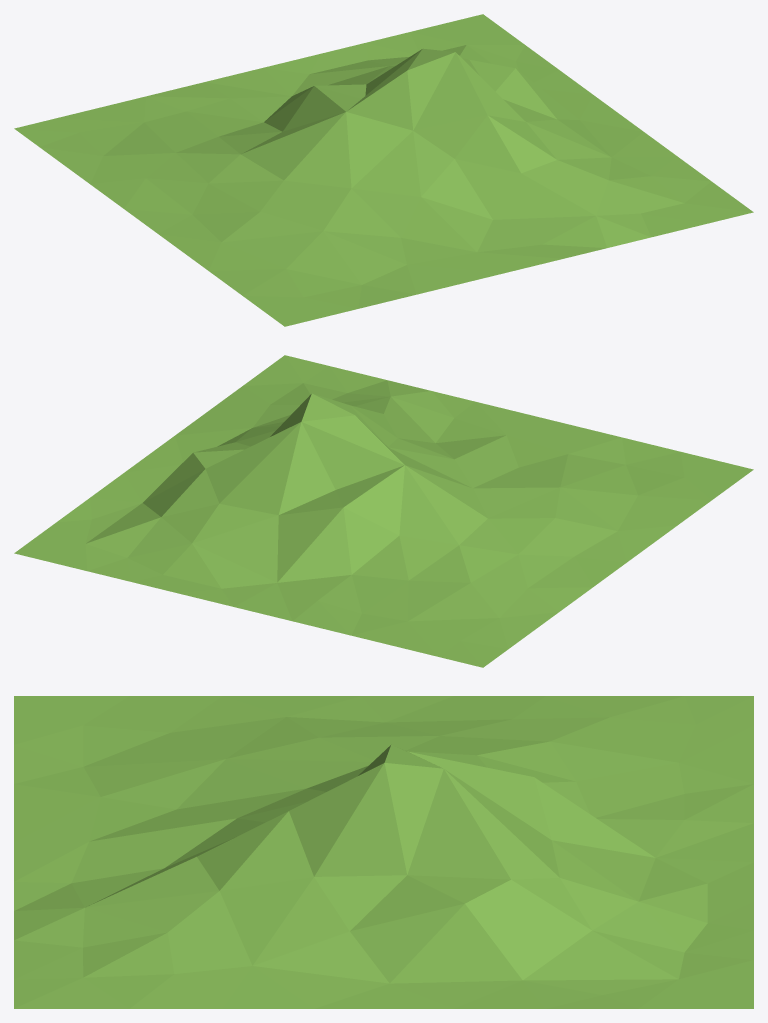
File: MT_Terrain_S_a_15_LOD.fbx
The picture shows the model from 3 angles, top to bottom: view 1: azimuth 30°, elevation 25°; view 2: azimuth 150°, elevation 25°; view 3: azimuth 270°, elevation 25°; orthographic projection. The views are drawn at different scales.
Parts seen in each view (by area): view 1: MT_Terrain_S_a_15_LOD0; view 2: MT_Terrain_S_a_15_LOD0; view 3: MT_Terrain_S_a_15_LOD0.
Part boxes in pixels (left/top/right/bottom): MT_Terrain_S_a_15_LOD0: left=14, top=14, right=753, bottom=326; MT_Terrain_S_a_15_LOD0: left=14, top=355, right=753, bottom=667; MT_Terrain_S_a_15_LOD0: left=14, top=696, right=753, bottom=1008.
Size of what is drawn, in the model's own units: 2500 by 522 by 2500.
